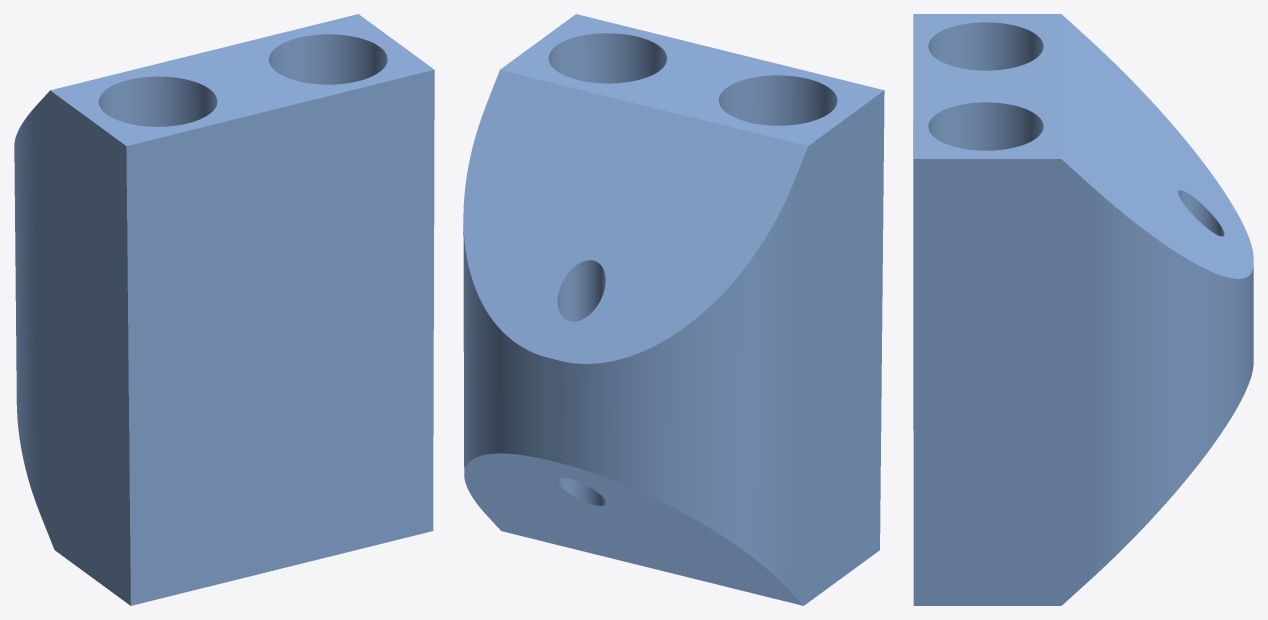
Rendered from dedo_menique_2.dae.
The picture shows the model from 3 angles, left to right: view 1: azimuth 30°, elevation 25°; view 2: azimuth 150°, elevation 25°; view 3: azimuth 270°, elevation 25°; orthographic projection. The views are drawn at different scales.
Parts seen in each view (by area): view 1: Fingerdesign-All-2.003; view 2: Fingerdesign-All-2.003; view 3: Fingerdesign-All-2.003.
Part boxes in pixels (<box>): Fingerdesign-All-2.003: <box>14,14,434,605</box>; Fingerdesign-All-2.003: <box>463,14,884,605</box>; Fingerdesign-All-2.003: <box>913,14,1253,605</box>.
Size of the model in its own units: 0.0126 by 0.0124 by 0.018.
